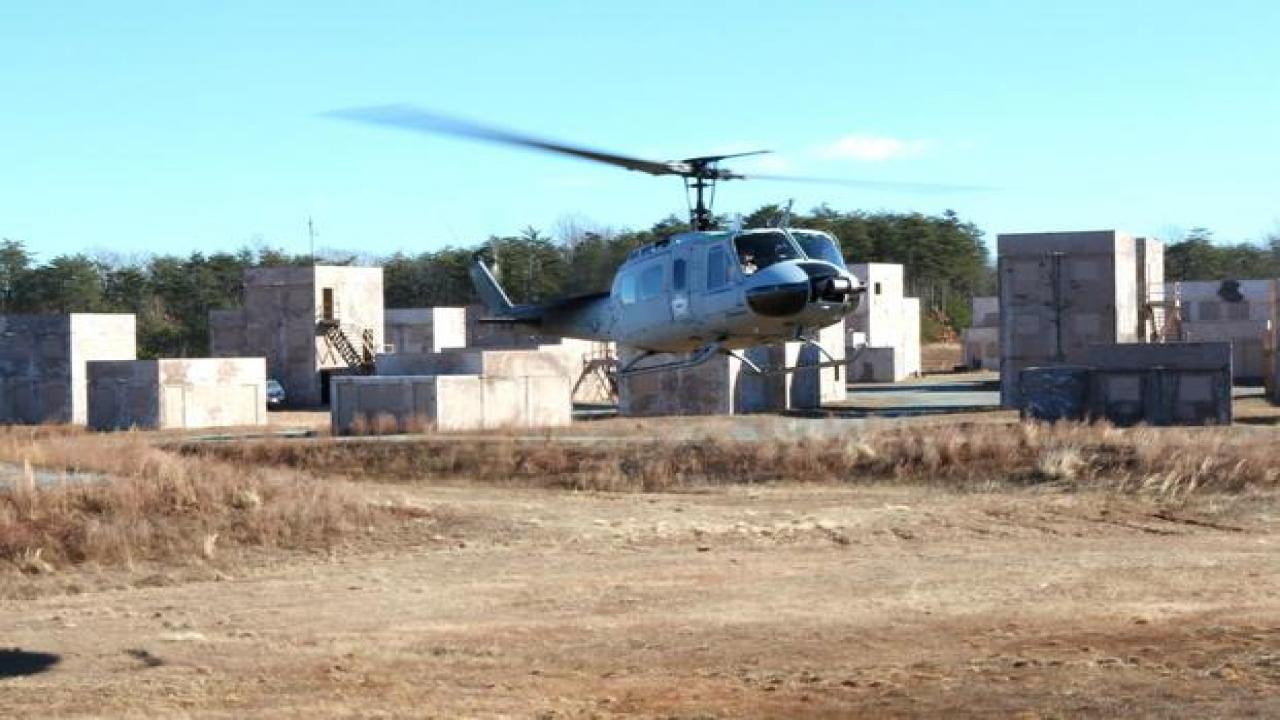Helicopter: (309, 83, 1011, 399)
